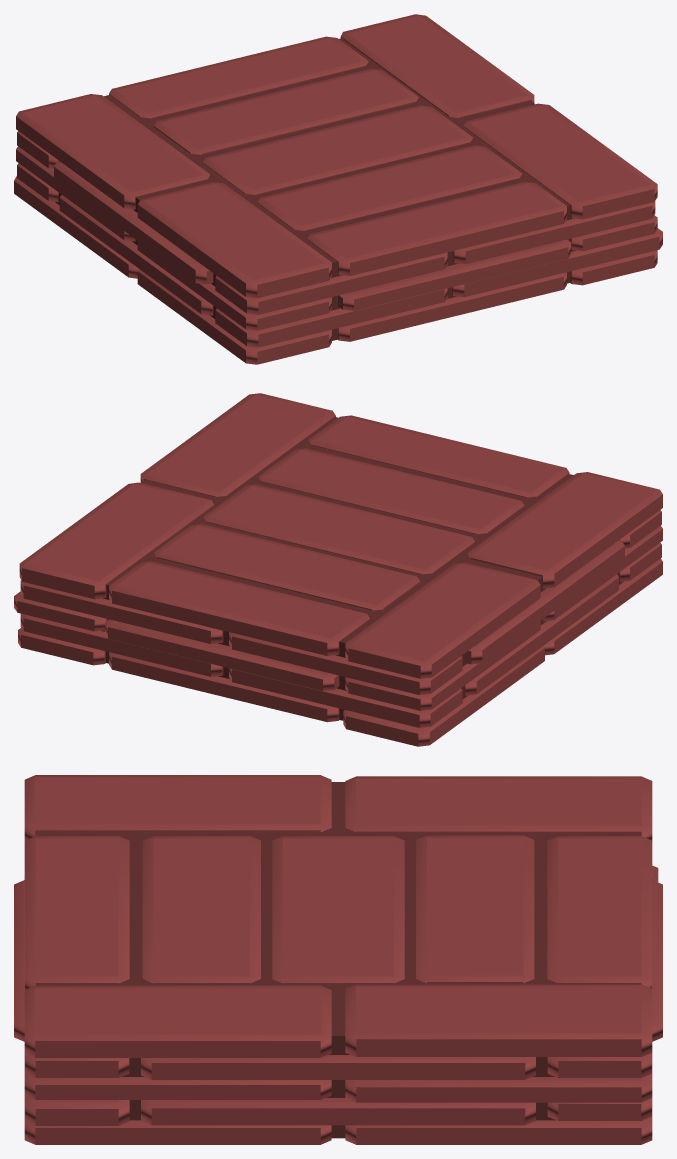
Rendered from Cube_Bricks.glb.
3 views of the same model, one above another, from view 1: azimuth 30°, elevation 25°; view 2: azimuth 150°, elevation 25°; view 3: azimuth 270°, elevation 25° (orthographic). The views are drawn at different scales.
Visible parts, largest first — view 1: Cube_Bricks; view 2: Cube_Bricks; view 3: Cube_Bricks.
Boxes of the visible parts, <box> form: Cube_Bricks: <box>14,14,662,364</box>; Cube_Bricks: <box>14,393,662,746</box>; Cube_Bricks: <box>14,775,662,1144</box>.
Size of the model in its own units: 18.37 by 3.43 by 18.51.
